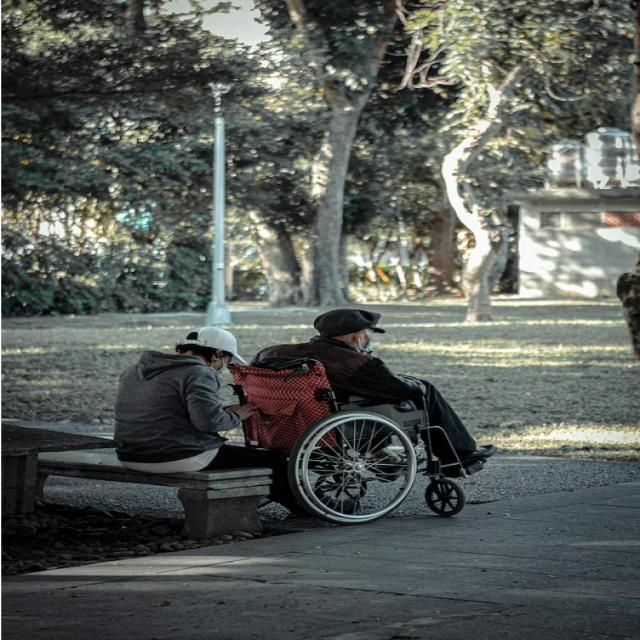wheelchairs: (229, 352, 500, 521)
